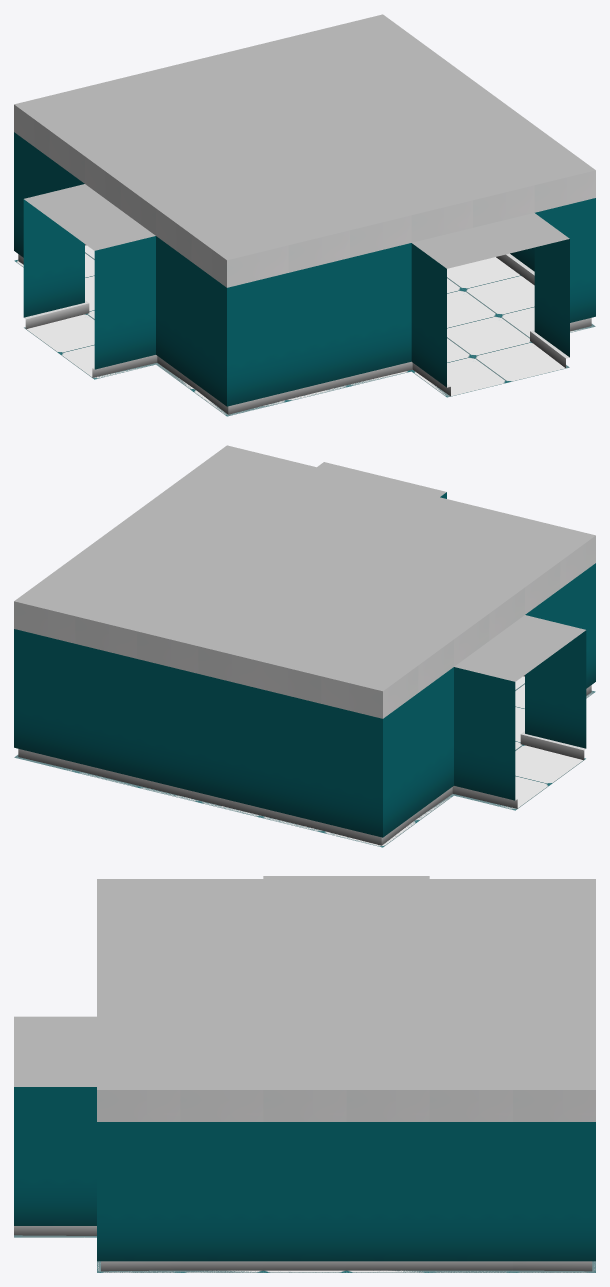
Rendered from SalaGrande1SaidaTec.fbx.
3 views of the same model, one above another, from view 1: azimuth 30°, elevation 25°; view 2: azimuth 150°, elevation 25°; view 3: azimuth 270°, elevation 25° (orthographic). The views are drawn at different scales.
Parts seen in each view (by area): view 1: SalaGrande1SaidaTec; view 2: SalaGrande1SaidaTec; view 3: SalaGrande1SaidaTec.
Part boxes in pixels (bbox=[...]): SalaGrande1SaidaTec: bbox=[14, 14, 595, 416]; SalaGrande1SaidaTec: bbox=[14, 445, 595, 847]; SalaGrande1SaidaTec: bbox=[14, 876, 595, 1272].
Size of the model in its own units: 700 by 243 by 700.
1 material, 1 textured.
